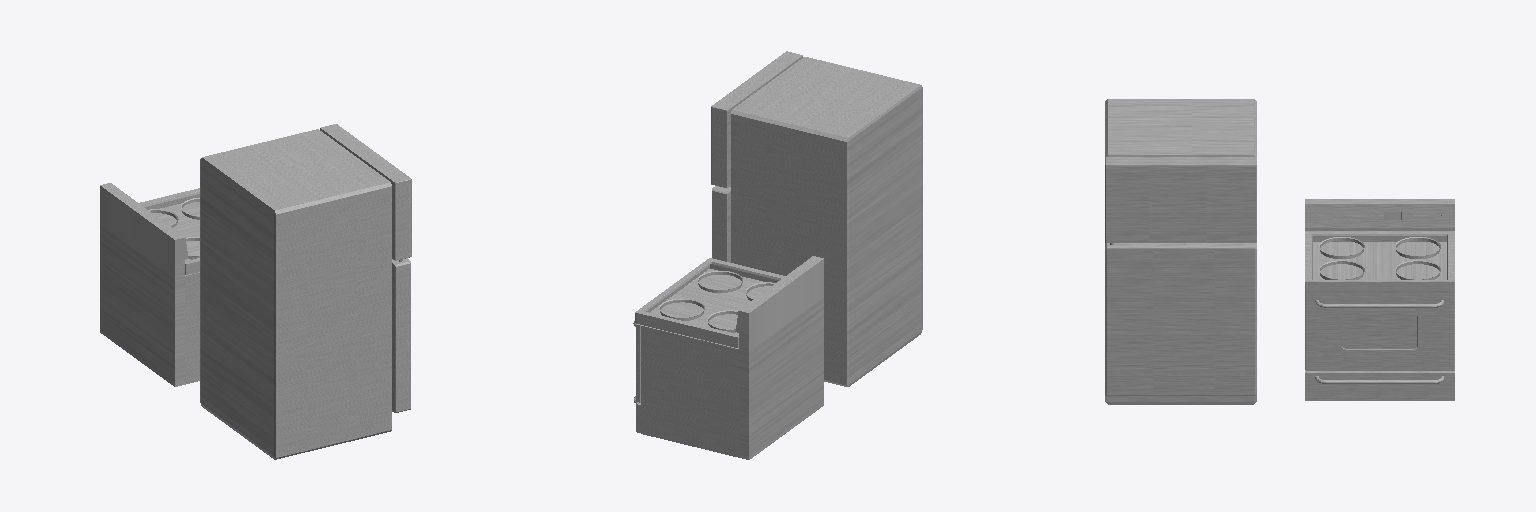
3 views of the same model, side by side, from view 1: azimuth 30°, elevation 25°; view 2: azimuth 150°, elevation 25°; view 3: azimuth 270°, elevation 25° (orthographic).
Parts seen in each view (by area): view 1: fridge_Cube.017, stove_Torus.001; view 2: fridge_Cube.017, stove_Torus.001; view 3: fridge_Cube.017, stove_Torus.001.
Boxes of the visible parts, x1=… form: fridge_Cube.017: x1=200, y1=124, x2=411, y2=459; stove_Torus.001: x1=100, y1=183, x2=199, y2=386; fridge_Cube.017: x1=711, y1=51, x2=922, y2=386; stove_Torus.001: x1=633, y1=256, x2=823, y2=459; fridge_Cube.017: x1=1105, y1=99, x2=1256, y2=404; stove_Torus.001: x1=1305, y1=199, x2=1454, y2=400.
Size of the model in its own units: 2.65 by 4.6 by 5.84.
1 materials, 1 textured.